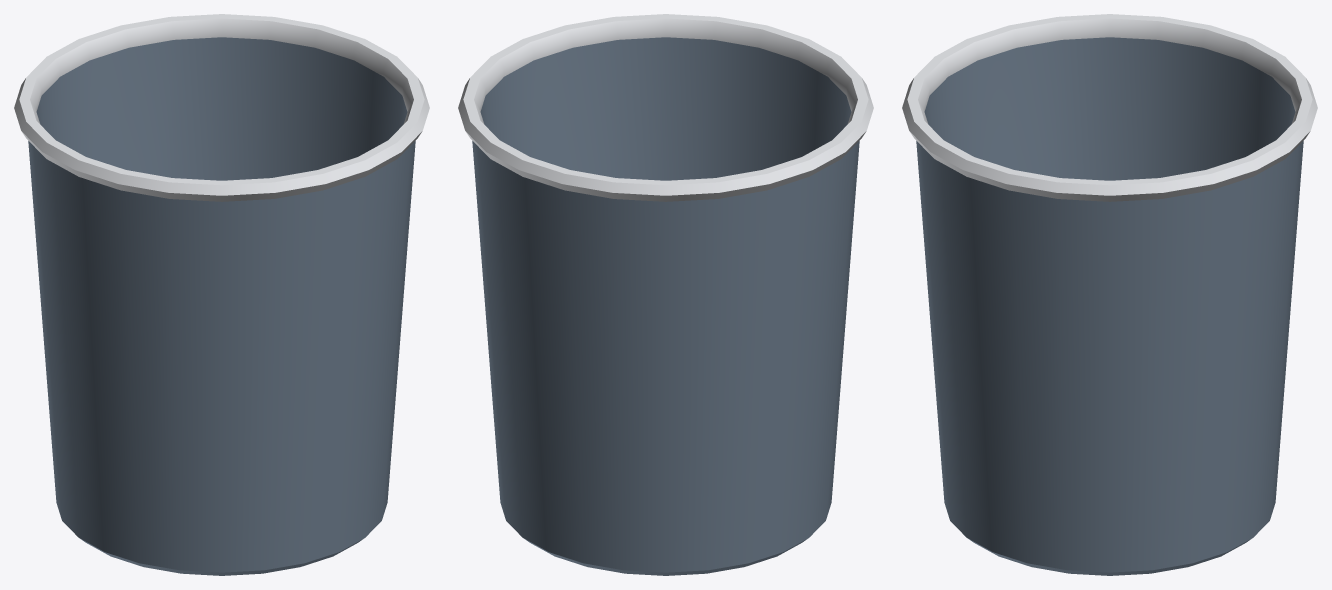
File: hoopbin.glb
3 views of the same model, side by side, from view 1: azimuth 30°, elevation 25°; view 2: azimuth 150°, elevation 25°; view 3: azimuth 270°, elevation 25° (orthographic).
Parts seen in each view (by area): view 1: hoopbin; view 2: hoopbin; view 3: hoopbin.
Part boxes in pixels (left/top/right/bottom): hoopbin: left=14, top=14, right=429, bottom=575; hoopbin: left=458, top=14, right=873, bottom=575; hoopbin: left=902, top=14, right=1317, bottom=575.
Size of the model in its own units: 0.275 by 0.2991 by 0.275.
